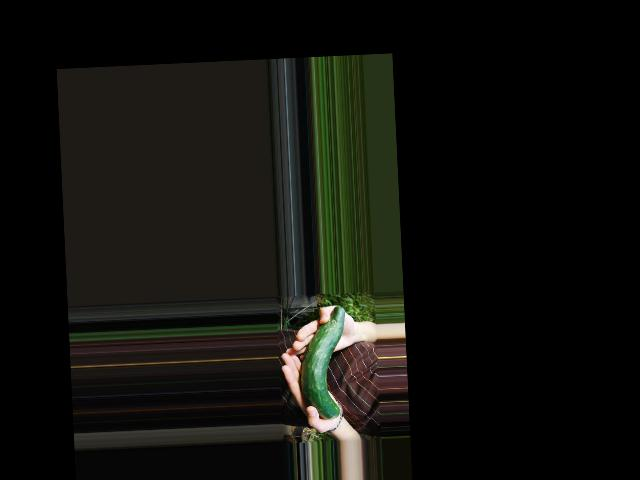cucumber: (297, 306, 349, 421)
